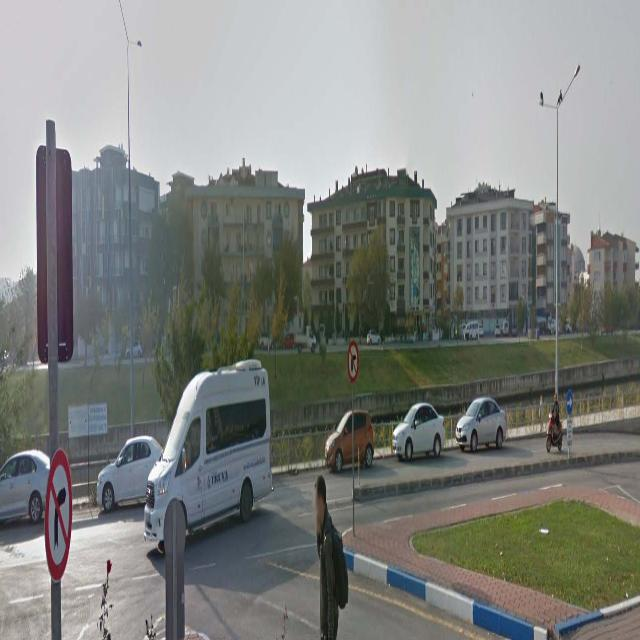sag: (567, 388, 572, 414)
sagadonulmez: (46, 454, 71, 584), (347, 342, 358, 382)
